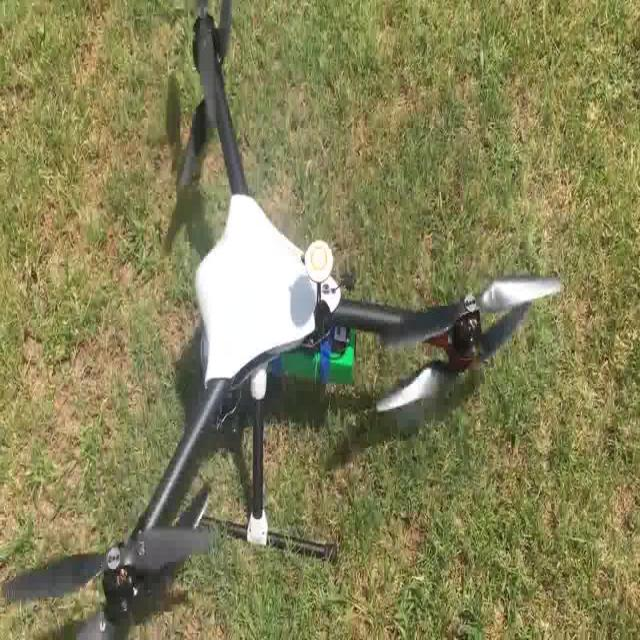drones: (1, 1, 568, 639)
